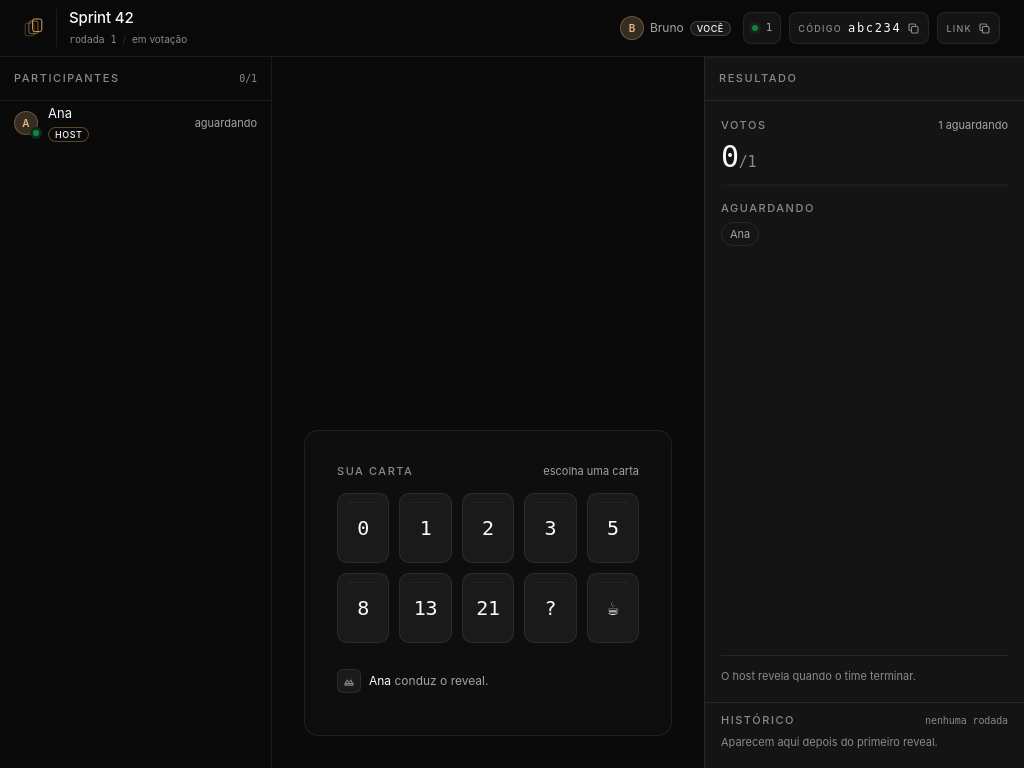
Test: erro ao executar ação › mostra o erro em português e deixa tentar de novo ou fechar
This screenshot has width=1024, height=768.
Click the button named "carta 3": (550, 528) [524,493,577,563]
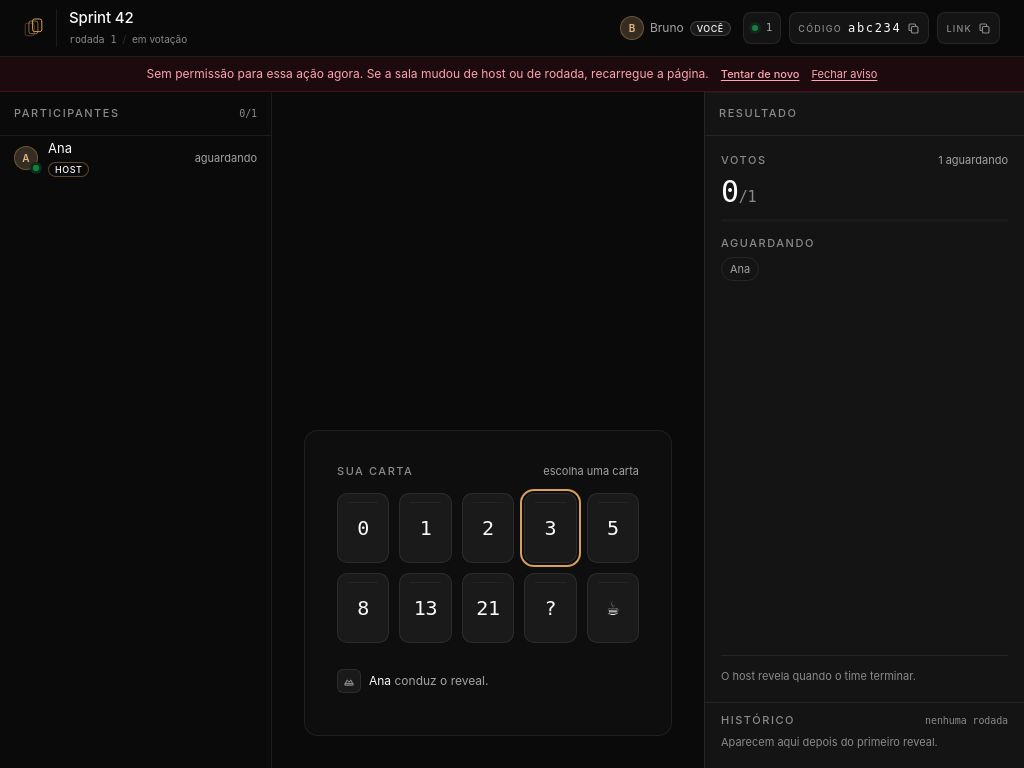
expect the message shows "Sem permissão": met, box [147,66,709,81]
Click the button "Tentar de novo": (760, 74) [721,66,799,82]
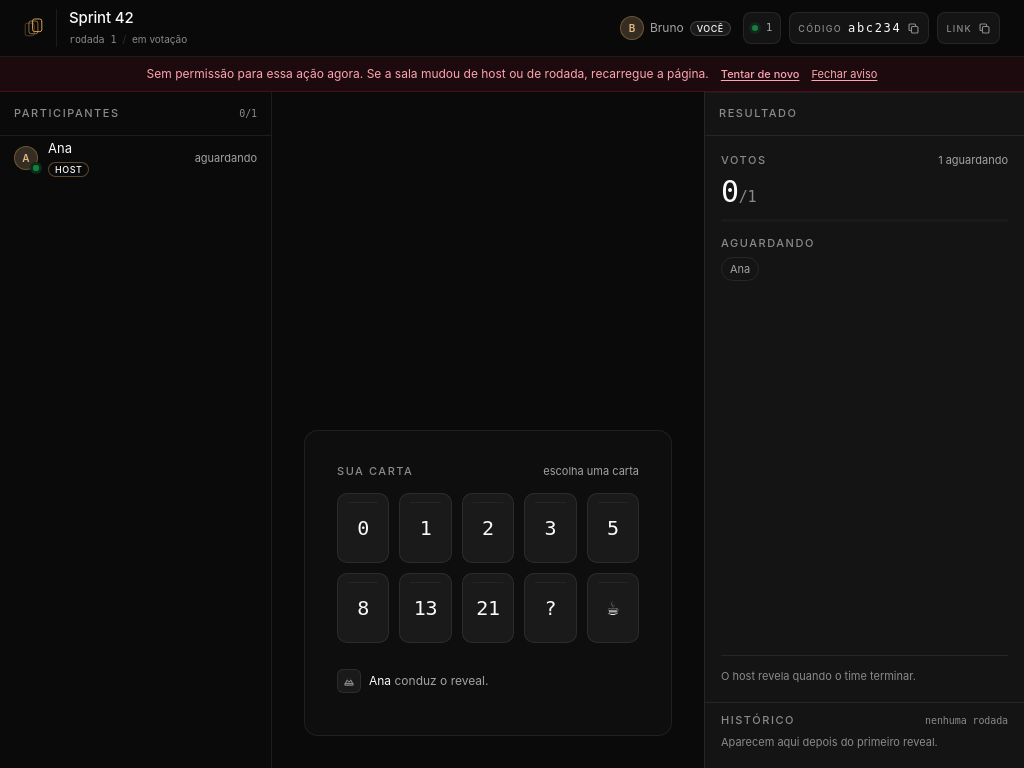
Click the button "Fechar aviso": (844, 74) [812,66,877,82]
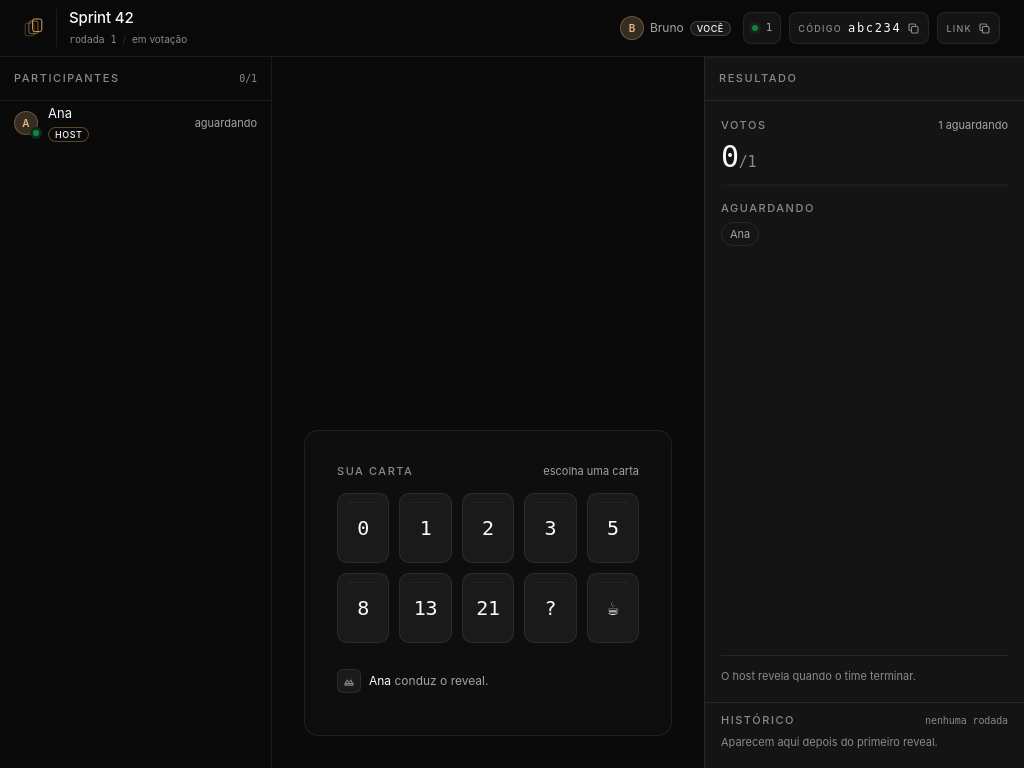
expect the message is gone: met
